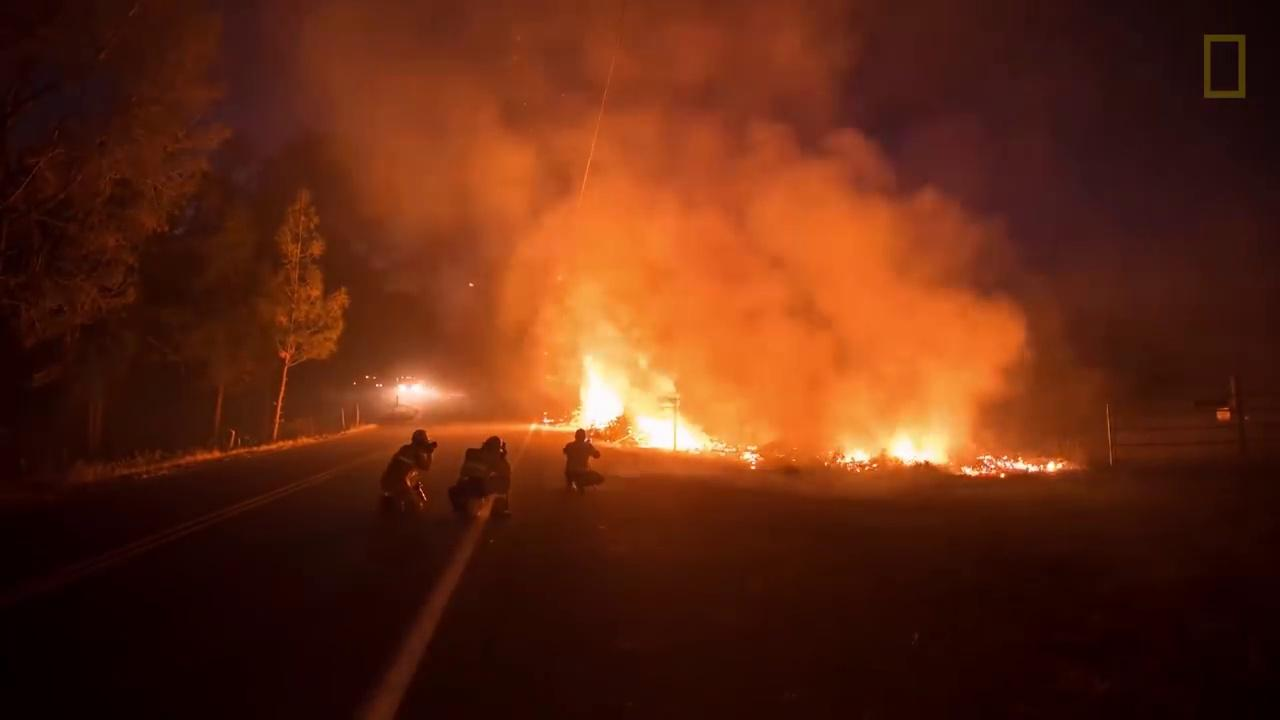Fire: (569, 296, 767, 469), (828, 422, 952, 480), (957, 452, 1067, 478)
